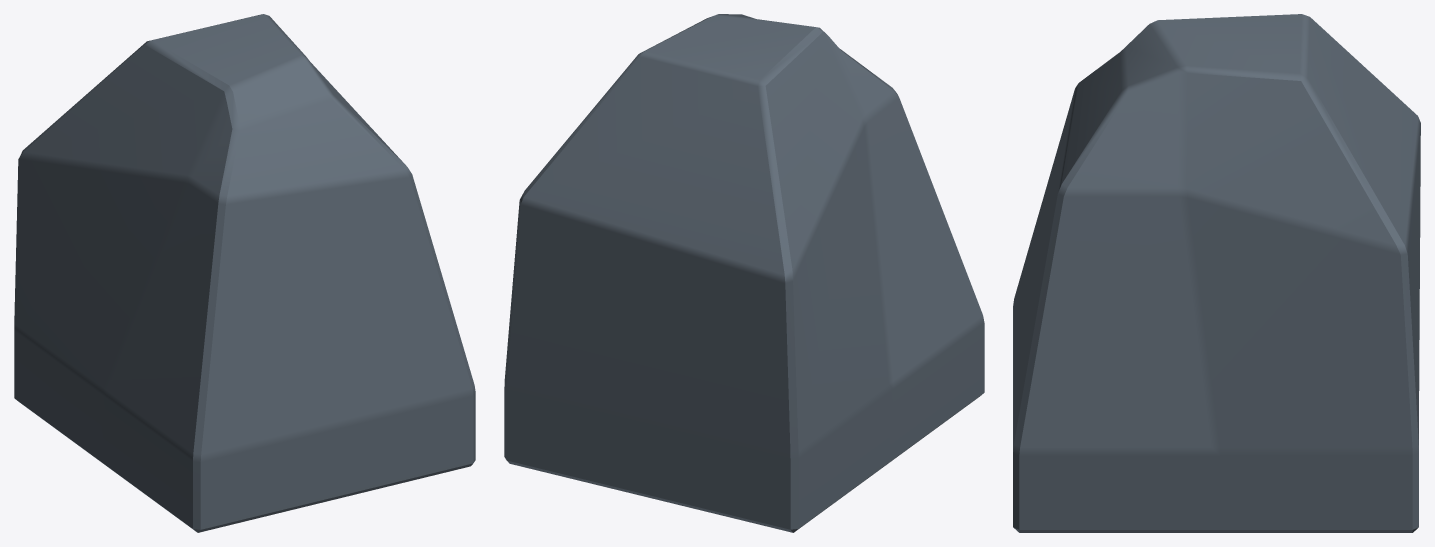
Rendered from Rock_4.fbx.
3 views of the same model, side by side, from view 1: azimuth 30°, elevation 25°; view 2: azimuth 150°, elevation 25°; view 3: azimuth 270°, elevation 25° (orthographic). The views are drawn at different scales.
Parts seen in each view (by area): view 1: rock_5; view 2: rock_5; view 3: rock_5.
Boxes of the visible parts, left/top/right/bottom form: rock_5: left=14, top=14, right=475, bottom=532; rock_5: left=504, top=14, right=984, bottom=532; rock_5: left=1013, top=14, right=1420, bottom=532.
Size of the model in its own units: 0.348 by 0.4451 by 0.3947.
